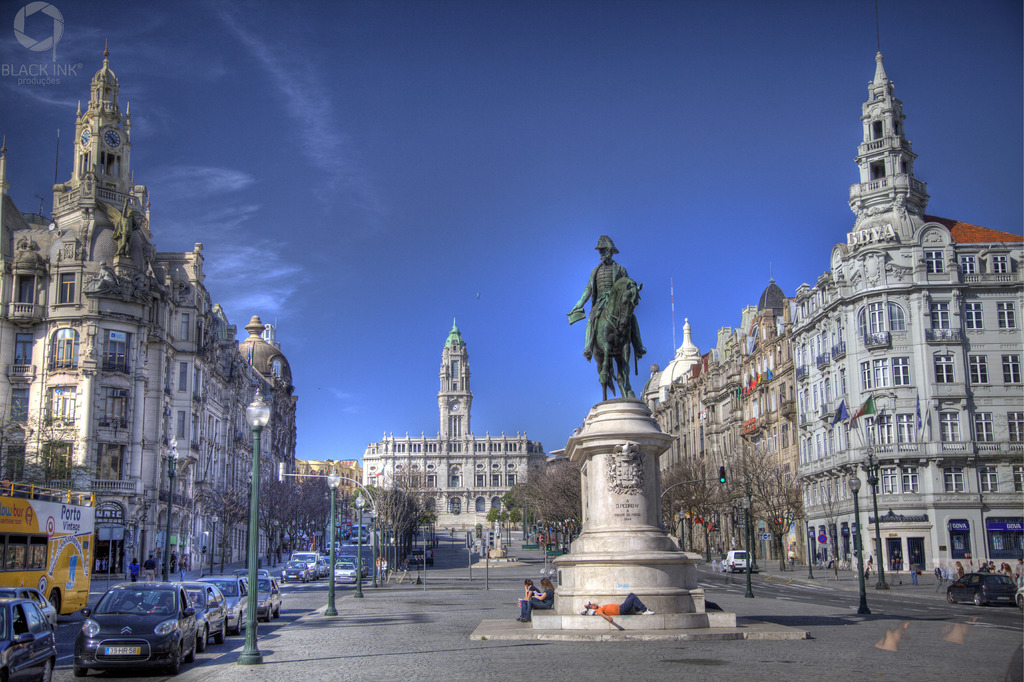Car: (0, 566, 280, 681), (949, 571, 1019, 608), (720, 552, 755, 576), (281, 561, 310, 584), (335, 562, 356, 582), (359, 557, 369, 576), (316, 557, 324, 578), (325, 543, 339, 553), (1016, 587, 1023, 603), (321, 564, 330, 573)
